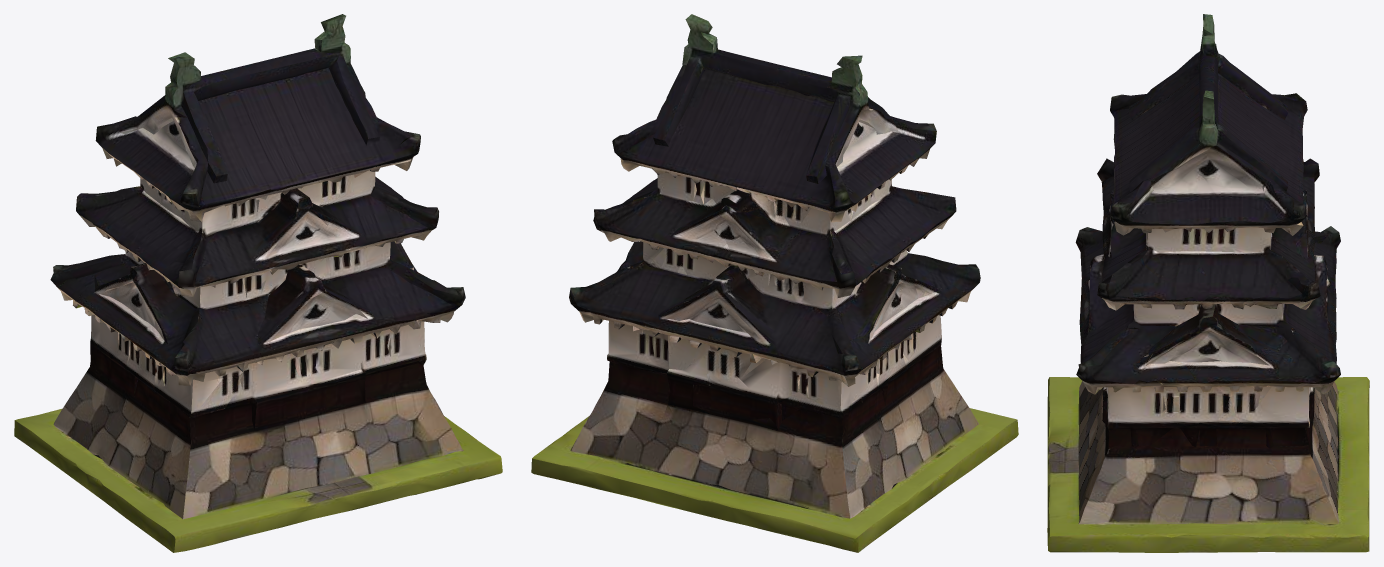
File: hirosaki-castle.glb
3 views of the same model, side by side, from view 1: azimuth 30°, elevation 25°; view 2: azimuth 150°, elevation 25°; view 3: azimuth 270°, elevation 25° (orthographic).
Parts seen in each view (by area): view 1: logan-textured.obj; view 2: logan-textured.obj; view 3: logan-textured.obj.
Part boxes in pixels (x1,y1,x2,y2): logan-textured.obj: (14, 14, 502, 552); logan-textured.obj: (531, 14, 1018, 552); logan-textured.obj: (1047, 14, 1369, 552).
Size of the model in its own units: 0.8191 by 1 by 0.6979.
1 material, 1 textured.
